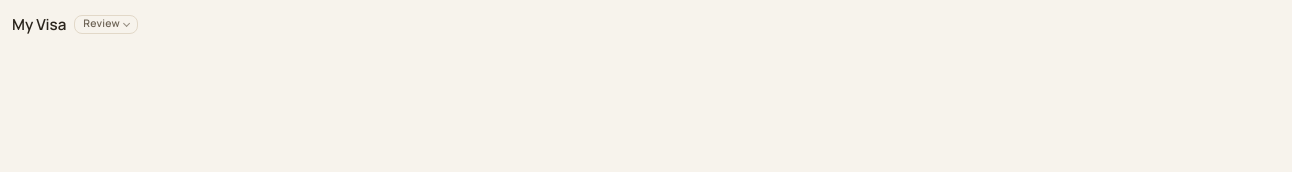
Scenario: CardRoutingControl › picking a list chip saves fixed routing to that list and collapses
Step 1. Click the button "Review" → (106, 24), box [74, 14, 138, 34]
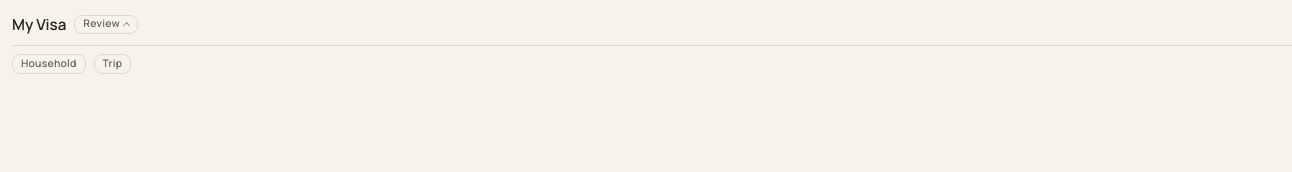
Step 2. Click the button "Household" → (49, 64), box [12, 54, 86, 74]
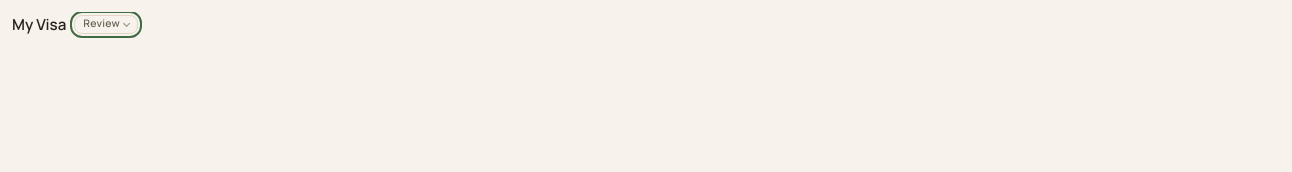
Expected: the button "Review" is collapsed, [74, 14, 138, 34]
